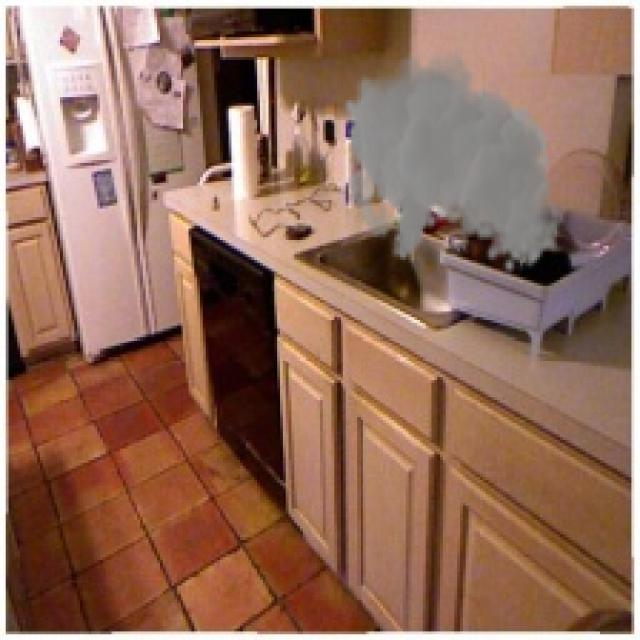smoke: (343, 43, 560, 274)
